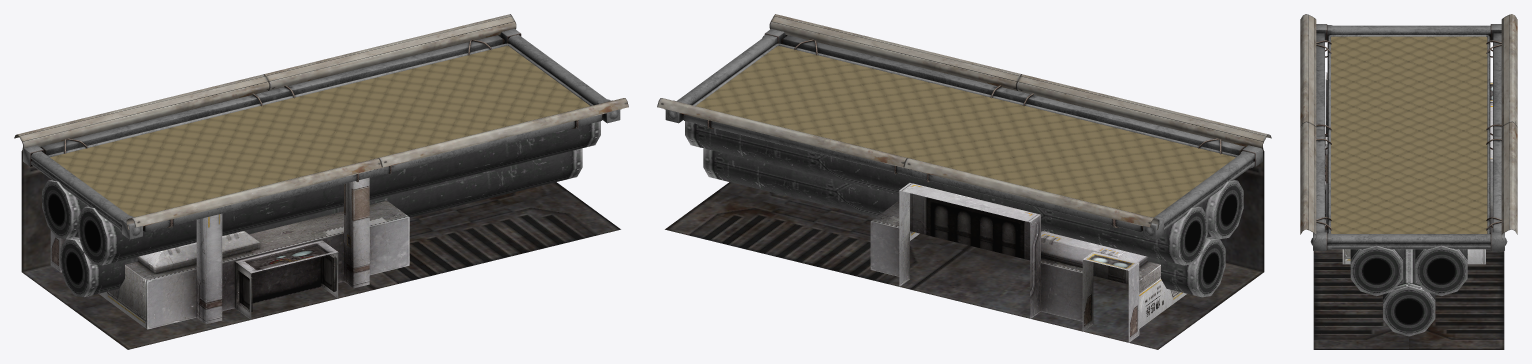
File: lab_pipes_box_fenced_straight.dae
The picture shows the model from 3 angles, left to right: view 1: azimuth 30°, elevation 25°; view 2: azimuth 150°, elevation 25°; view 3: azimuth 270°, elevation 25°; orthographic projection. The views are drawn at different scales.
Parts seen in each view (by area): view 1: Geometry_mesh028Node, Geometry_mesh001Node, polySurface1, polySurface8, polySurface3, polySurface13; view 2: Geometry_mesh028Node, polySurface8, polySurface1, Geometry_mesh001Node, polySurface3, polySurface13; view 3: Geometry_mesh028Node, polySurface8, polySurface13, polySurface3, polySurface1, Geometry_mesh001Node.
Part boxes in pixels (left/top/right/bottom): Geometry_mesh028Node: left=50, top=45, right=589, bottom=216; Geometry_mesh001Node: left=50, top=177, right=409, bottom=329; polySurface1: left=42, top=121, right=600, bottom=297; polySurface8: left=21, top=35, right=620, bottom=349; polySurface3: left=14, top=14, right=628, bottom=229; polySurface13: left=22, top=29, right=620, bottom=239; Geometry_mesh028Node: left=696, top=45, right=1235, bottom=217; polySurface8: left=665, top=35, right=1264, bottom=349; polySurface1: left=685, top=121, right=1243, bottom=297; Geometry_mesh001Node: left=870, top=183, right=1186, bottom=342; polySurface3: left=657, top=14, right=1271, bottom=229; polySurface13: left=665, top=29, right=1263, bottom=239; Geometry_mesh028Node: left=1331, top=36, right=1487, bottom=233; polySurface8: left=1313, top=135, right=1504, bottom=349; polySurface13: left=1310, top=24, right=1507, bottom=250; polySurface3: left=1300, top=14, right=1517, bottom=241; polySurface1: left=1350, top=245, right=1467, bottom=336; Geometry_mesh001Node: left=1325, top=72, right=1492, bottom=264.
Bounding box in the file's own units: 4 × 1.04 × 1.71.
